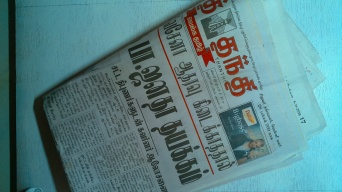p: (34, 4, 317, 192)
